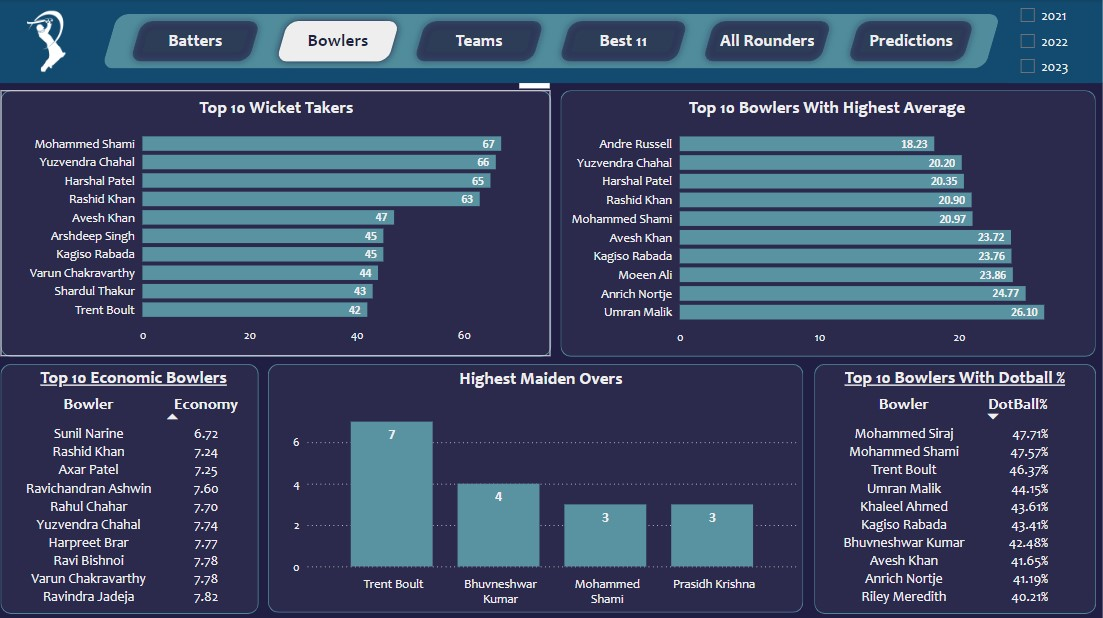

This screenshot's page, from the dashboard's own definition file:
{"tool":"powerbi","page":{"name":"Bowling Analysis","canvas":[1280,720],"ordinal":1},"visuals":[{"type":"shape","box":[0,97.4,1280.3,623],"z":0},{"type":"clusteredBarChart","title":"Top 10 Wicket Takers","fields":{"Category":["dim_players.name"],"Y":["Key_Measures.Wickets"]},"box":[27.4,112.5,590.1,296.4],"z":1000},{"type":"shape","box":[2.7,105.7,638.1,308.7],"z":2000},{"type":"shape","box":[0,0,1280.3,97.4],"z":3000},{"type":"shape","box":[120.8,17.8,1041.5,63.1],"z":4000},{"type":"actionButton","box":[145.5,17.8,167.4,63.1],"z":5000},{"type":"actionButton","box":[314.2,17.8,159.2,63.1],"z":6000},{"type":"actionButton","box":[473.4,17.8,167.4,63.1],"z":7000},{"type":"actionButton","box":[642.2,17.8,166,63.1],"z":8000},{"type":"actionButton","box":[808.2,17.8,166,63.1],"z":9000},{"type":"actionButton","box":[975.6,17.8,163.3,63.1],"z":10000},{"type":"image","box":[13.7,8.2,85.1,81],"z":11000},{"type":"slicer","fields":{"Values":["dim_match_summary.matchDate.Variation.Date Hierarchy.Year"]},"box":[1171.9,0,93.3,97.4],"z":12000},{"type":"clusteredBarChart","title":"Top 10 Bowlers With Highest Average","fields":{"Y":["Key_Measures.totalRunsConceded"],"Category":["fact_bowling_summary.bowlerName"]},"box":[655.8,112.6,608.8,296.5],"z":13000},{"type":"shape","box":[651.8,105.7,620.2,308.7],"z":14000},{"type":"tableEx","title":"Top 10 Economic Bowlers","fields":{"Values":["fact_bowling_summary.bowlerName","Key_Measures.Economy"]},"box":[13.7,425.4,288.2,285.4],"z":15000},{"type":"shape","box":[2.7,422.6,299.1,289.5],"z":16000},{"type":"columnChart","title":"Highest Maiden Overs","fields":{"Category":["fact_bowling_summary.bowlerName"],"Y":["fact_bowling_summary.maiden"]},"box":[323.8,426.8,609.3,285.4],"z":17000},{"type":"shape","box":[312.9,422.6,620.2,288.2],"z":18000},{"type":"tableEx","title":"Top 10 Bowlers With Dotball %","fields":{"Values":["fact_bowling_summary.bowlerName","Key_Measures.DotBall%"]},"box":[950.9,425.4,314.2,284],"z":19000},{"type":"shape","box":[945.5,422.6,326.6,289.5],"z":20000}]}

Visuals, with their boxes in screenshot pixels (x1, y1, x2, y2), scaled from the page's 1280x720 canvas onto the 1103x618 screenshot:
shape: pyautogui.locateOnScreen(0, 84, 1102, 617)
"Top 10 Wicket Takers" clusteredBarChart: pyautogui.locateOnScreen(24, 97, 532, 351)
shape: pyautogui.locateOnScreen(2, 91, 552, 356)
shape: pyautogui.locateOnScreen(0, 0, 1102, 84)
shape: pyautogui.locateOnScreen(104, 15, 1002, 69)
actionButton: pyautogui.locateOnScreen(125, 15, 270, 69)
actionButton: pyautogui.locateOnScreen(271, 15, 408, 69)
actionButton: pyautogui.locateOnScreen(408, 15, 552, 69)
actionButton: pyautogui.locateOnScreen(553, 15, 696, 69)
actionButton: pyautogui.locateOnScreen(696, 15, 839, 69)
actionButton: pyautogui.locateOnScreen(841, 15, 981, 69)
image: pyautogui.locateOnScreen(12, 7, 85, 77)
slicer - dim_match_summary.matchDate.Variation.Date Hierarchy.Year: pyautogui.locateOnScreen(1010, 0, 1090, 84)
"Top 10 Bowlers With Highest Average" clusteredBarChart: pyautogui.locateOnScreen(565, 97, 1090, 351)
shape: pyautogui.locateOnScreen(562, 91, 1096, 356)
"Top 10 Economic Bowlers" tableEx: pyautogui.locateOnScreen(12, 365, 260, 610)
shape: pyautogui.locateOnScreen(2, 363, 260, 611)
"Highest Maiden Overs" columnChart: pyautogui.locateOnScreen(279, 366, 804, 611)
shape: pyautogui.locateOnScreen(270, 363, 804, 610)
"Top 10 Bowlers With Dotball %" tableEx: pyautogui.locateOnScreen(819, 365, 1090, 609)
shape: pyautogui.locateOnScreen(815, 363, 1096, 611)
